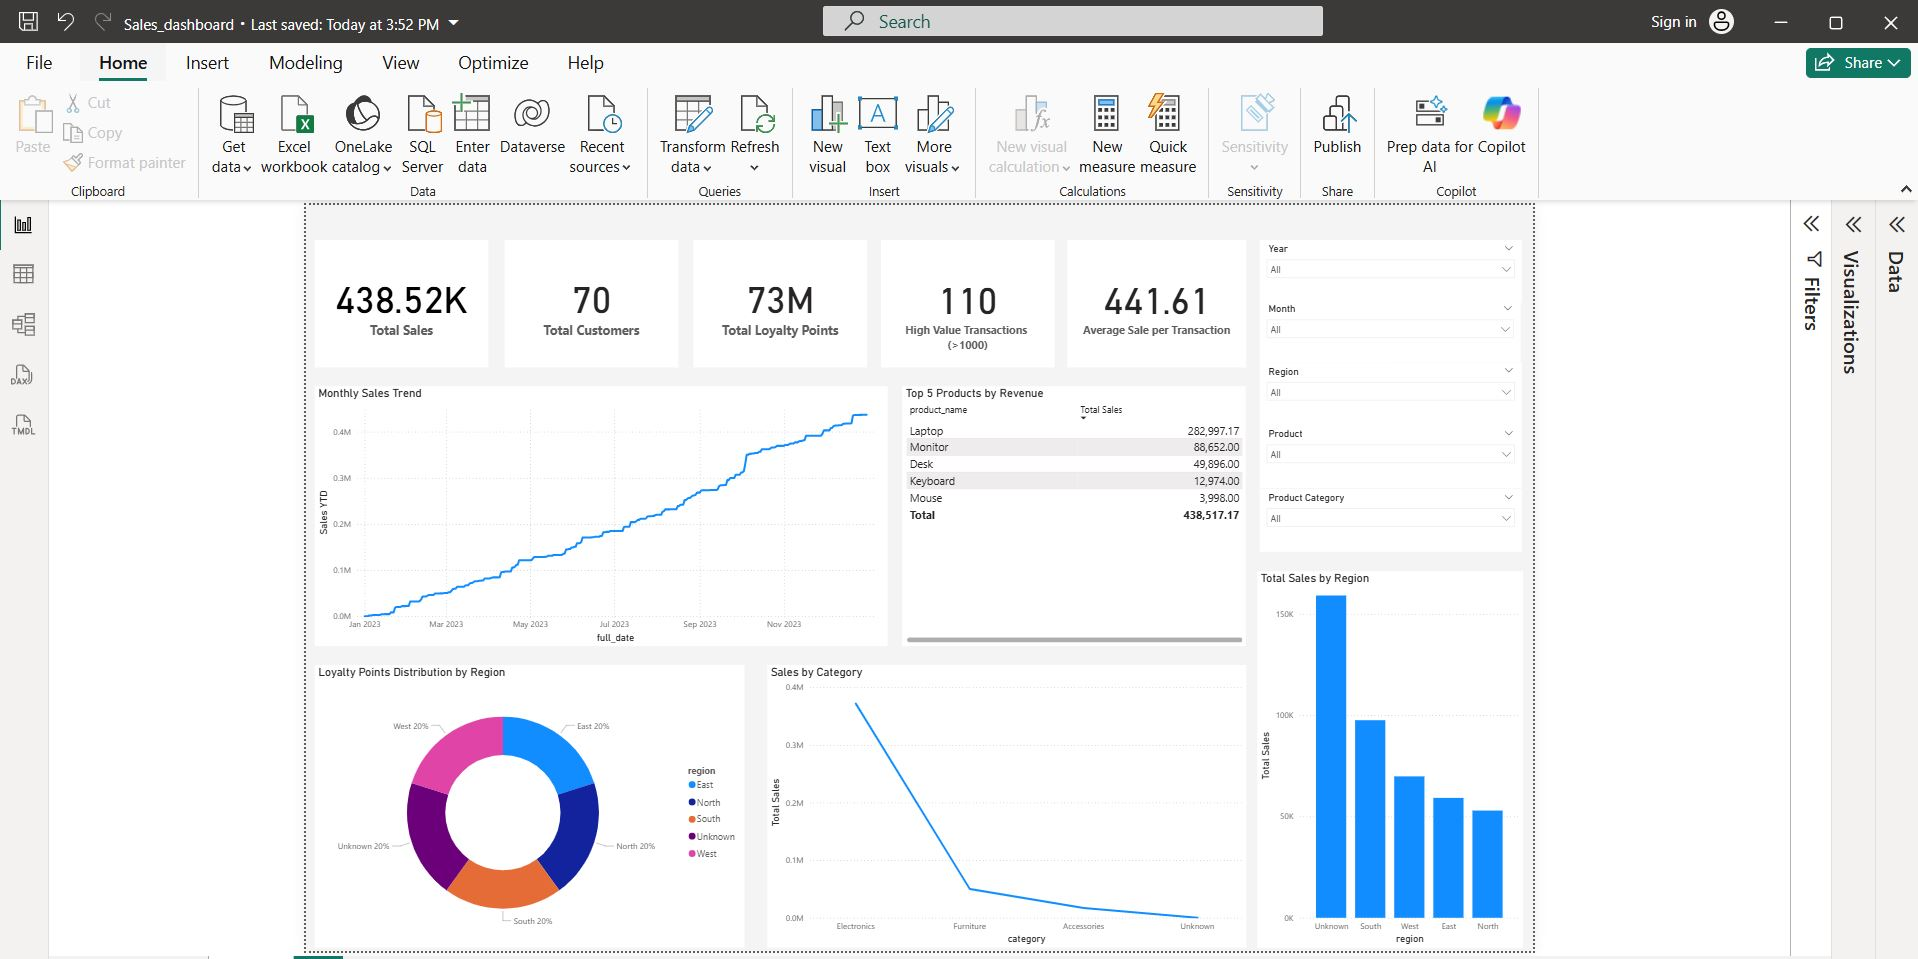

Layout of this report page (visuals, bound fields, positions):
{"tool":"powerbi","page":{"name":"Sales","canvas":[1810,1100],"ordinal":0},"visuals":[{"type":"card","fields":{"Values":["FactSales.Total Sales"]},"box":[13.3,51.7,256,188.3],"z":0},{"type":"card","fields":{"Values":["FactSales.Average Sale per Transaction"]},"box":[1123,52,264,188],"z":1000},{"type":"card","fields":{"Values":["DimCustomer.Total Loyalty Points"]},"box":[571,52,256,188],"z":2000},{"type":"card","fields":{"Values":["FactSales.High Value Transactions (>1000)"]},"box":[848,52,256,188],"z":3000},{"type":"lineChart","title":"Monthly Sales Trend","fields":{"Category":["DimDate.full_date"],"Y":["FactSales.Sales YTD"]},"box":[13.3,266.7,845,383.3],"z":4000},{"type":"clusteredColumnChart","title":"Total Sales by Region","fields":{"Category":["FactSales.region"],"Y":["FactSales.Total Sales"]},"box":[1403.3,540,391.7,555],"z":5000},{"type":"lineChart","title":"Sales by Category","fields":{"Y":["FactSales.Total Sales"],"Category":["DimProduct.category"]},"box":[680,678.3,706.7,416.7],"z":6000},{"type":"tableEx","title":"Top 5 Products by Revenue","fields":{"Values":["DimProduct.product_name","FactSales.Total Sales"]},"box":[880,266.7,506.7,383.3],"z":7000},{"type":"card","fields":{"Values":["DimCustomer.Total Customers"]},"box":[293.3,51.7,256,188.3],"z":8000},{"type":"donutChart","title":"Loyalty Points Distribution by Region","fields":{"Category":["FactSales.region"],"Y":["DimCustomer.Total Loyalty Points"]},"box":[13.3,678.3,633.3,416.7],"z":9000},{"type":"slicer","title":"Select Year","fields":{"Values":["DimDate.year"]},"box":[1406,52,386.3,93.1],"z":10750,"group":"g1"},{"type":"slicer","fields":{"Values":["DimDate.month_name"]},"box":[1406.8,141,384.7,91.8],"z":11000,"group":"g1"},{"type":"slicer","fields":{"Values":["FactSales.region"]},"box":[1406,233.2,386.3,93.1],"z":12000,"group":"g1"},{"type":"slicer","fields":{"Values":["DimProduct.product_name"]},"box":[1406,324.3,386.3,93.1],"z":13000,"group":"g1"},{"type":"slicer","fields":{"Values":["DimProduct.category"]},"box":[1406,418.7,386.3,93.1],"z":15000,"group":"g1"},{"type":"group","id":"g1","title":"Group 1","box":[1406,52,386,460],"z":15001}]}

Visuals, with their boxes on the page's 1810x1100 design canvas (x1, y1, x2, y2). These are canvas units, not pixel positions in the 1918x959 screenshot, which may show the page scaled, cropped or inside an application window:
card - FactSales.Total Sales: (13, 52, 269, 240)
card - FactSales.Average Sale per Transaction: (1123, 52, 1387, 240)
card - DimCustomer.Total Loyalty Points: (571, 52, 827, 240)
card - FactSales.High Value Transactions (>1000): (848, 52, 1104, 240)
"Monthly Sales Trend" lineChart: (13, 267, 858, 650)
"Total Sales by Region" clusteredColumnChart: (1403, 540, 1795, 1095)
"Sales by Category" lineChart: (680, 678, 1387, 1095)
"Top 5 Products by Revenue" tableEx: (880, 267, 1387, 650)
card - DimCustomer.Total Customers: (293, 52, 549, 240)
"Loyalty Points Distribution by Region" donutChart: (13, 678, 647, 1095)
"Select Year" slicer: (1406, 52, 1792, 145)
slicer - DimDate.month_name: (1407, 141, 1792, 233)
slicer - FactSales.region: (1406, 233, 1792, 326)
slicer - DimProduct.product_name: (1406, 324, 1792, 417)
slicer - DimProduct.category: (1406, 419, 1792, 512)
"Group 1" group: (1406, 52, 1792, 512)
